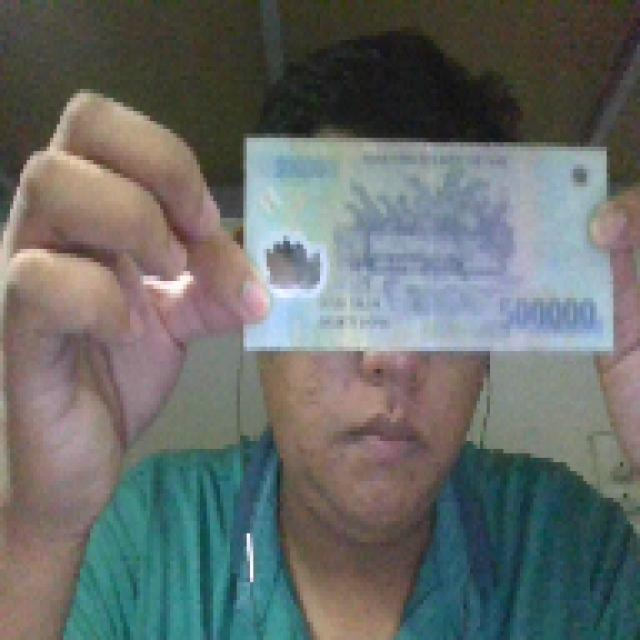500 000 VND: (236, 123, 620, 359)
